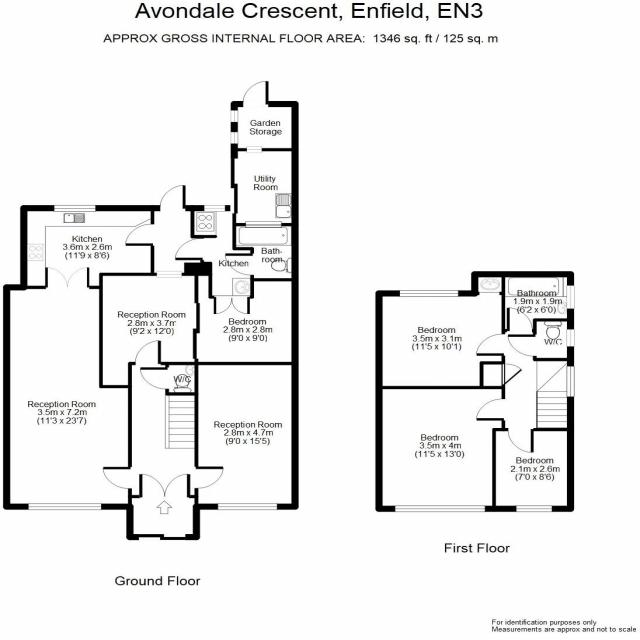DOOR: (158, 185, 187, 212), (100, 466, 132, 490), (174, 237, 204, 261), (139, 366, 169, 390), (194, 466, 224, 490), (475, 397, 505, 421), (134, 340, 162, 365), (506, 428, 534, 453), (125, 222, 154, 246), (507, 333, 536, 357), (476, 332, 505, 356)
DOUBLE DOOR: (137, 470, 192, 499), (45, 267, 91, 289), (213, 296, 251, 315)
ROOM: (2, 267, 134, 510), (375, 385, 506, 512), (193, 361, 299, 510), (375, 271, 506, 390), (98, 263, 199, 389), (192, 275, 300, 365), (492, 428, 575, 513)
WINDOW: (393, 505, 486, 513), (26, 502, 102, 511), (215, 501, 277, 511), (399, 290, 459, 298), (52, 204, 96, 213), (566, 364, 575, 398), (513, 505, 552, 512), (566, 283, 575, 309), (156, 270, 182, 278), (566, 328, 576, 348), (201, 204, 225, 212), (245, 145, 262, 154), (229, 108, 239, 123), (230, 130, 239, 145)
